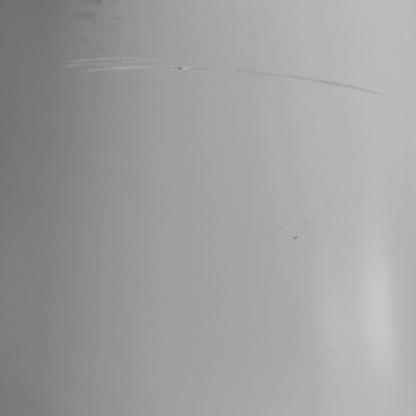sunshang: (65, 55, 389, 101)
